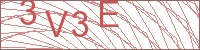3: (17, 1, 38, 28), (71, 9, 90, 38)
E: (96, 1, 125, 30)
V: (44, 9, 69, 39)
